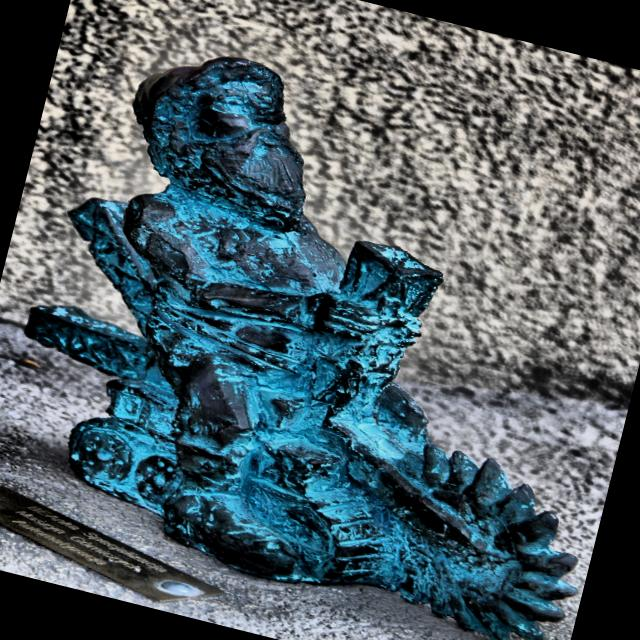Automatek: (26, 57, 576, 640)
